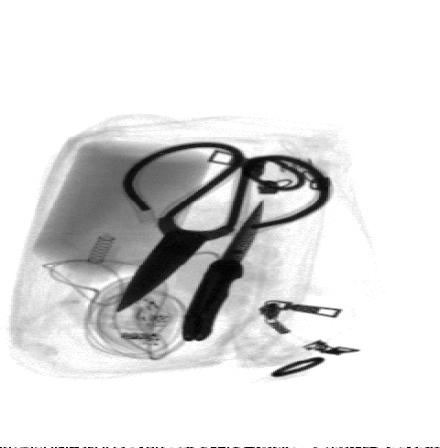Knife: (179, 198, 263, 342)
Scissors: (116, 142, 330, 313)
